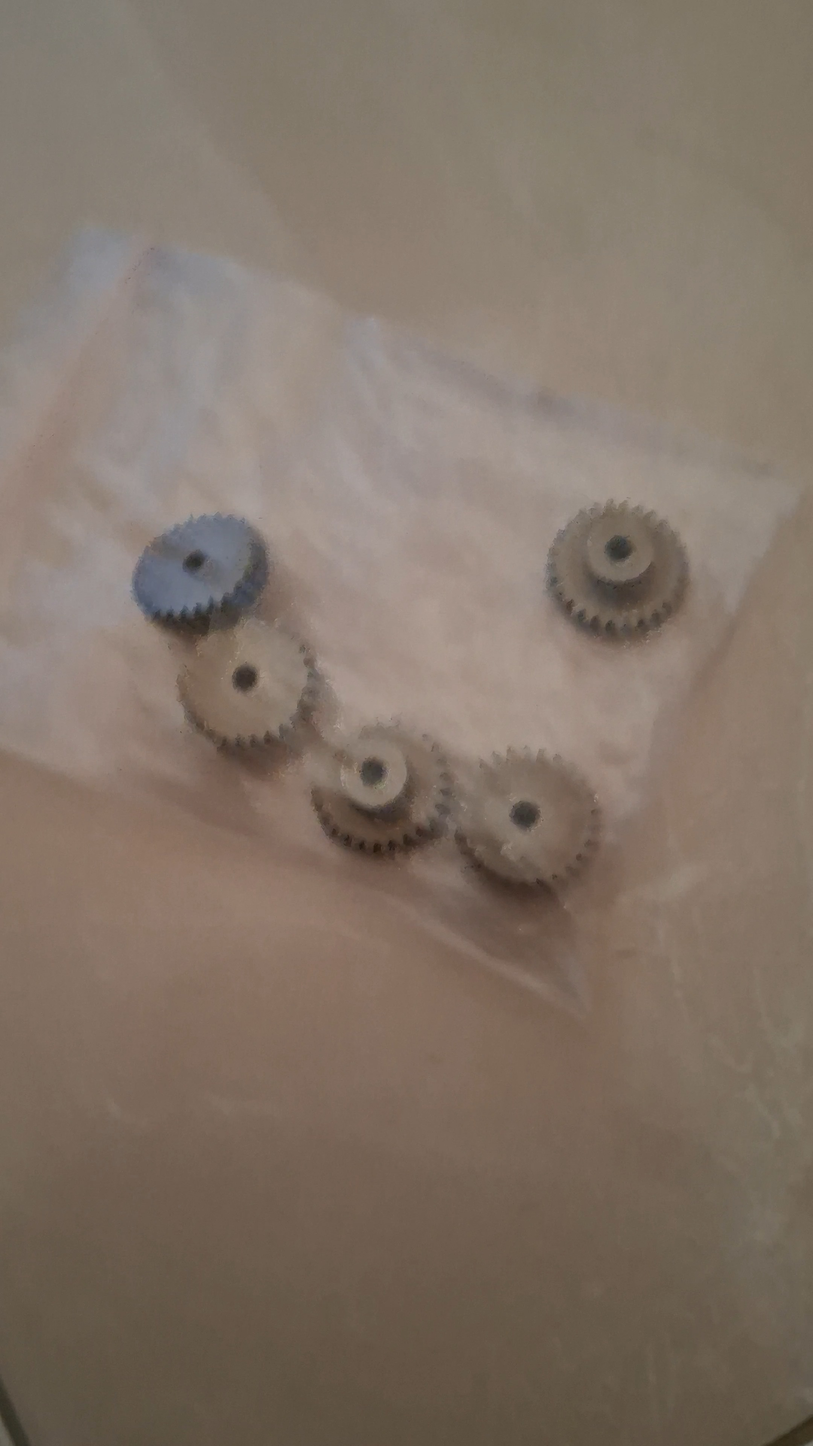spur gear: (457, 750, 600, 888), (548, 502, 687, 637), (312, 725, 453, 854), (178, 618, 318, 747), (133, 515, 268, 624)
